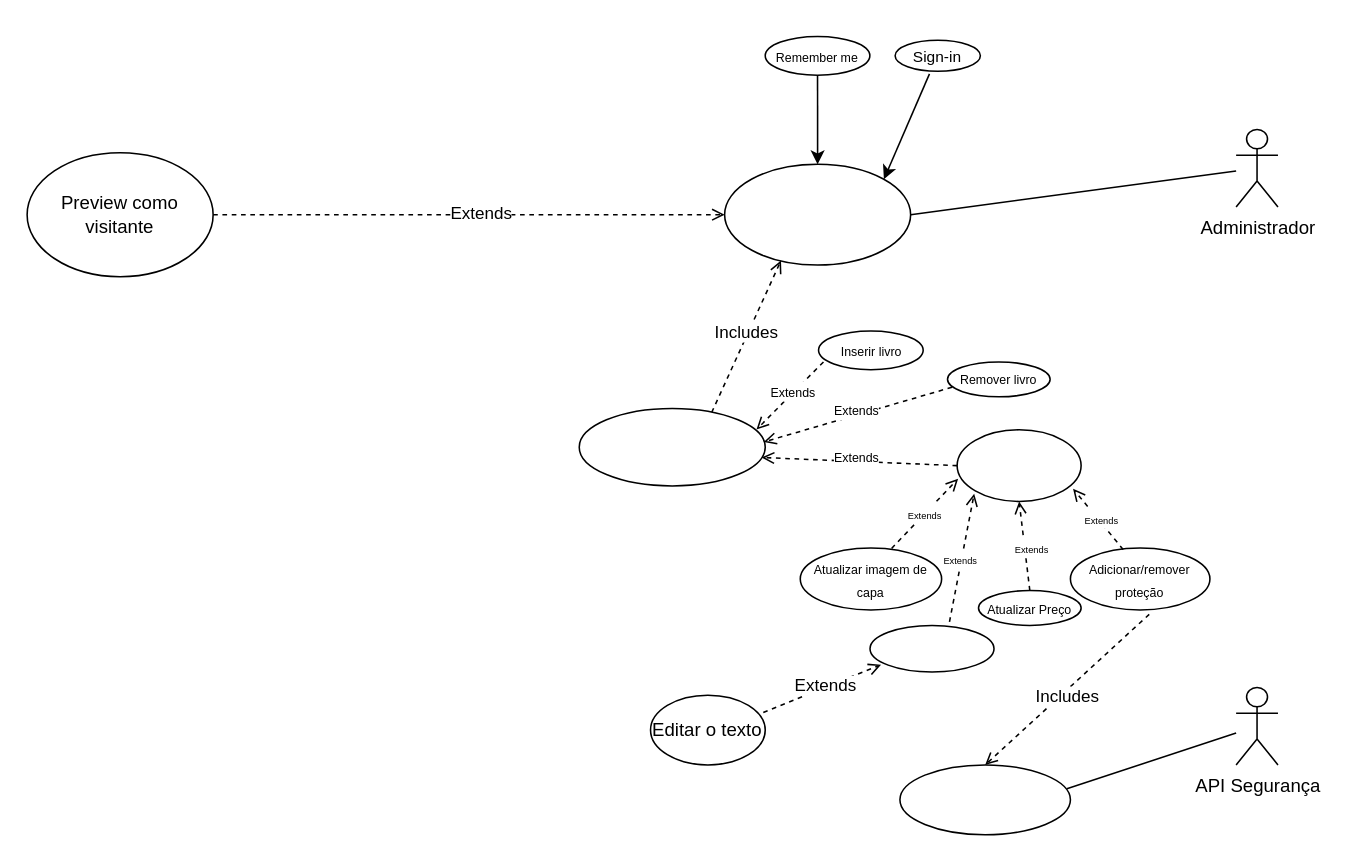
Some shapes in this 1347 by 862 pixel diagram are drawn without their labels. The shapes that lost their labels are listed below. From the top down, each one's centre as x and y in pixels, then its label:
At (x=817, y=214): "Autenticação por email (admin)".
At (x=671, y=446): "Atualização de catálogo".
At (x=1018, y=464): "Atualizar dados de livro".
At (x=931, y=648): "Atualizar descrição".
At (x=984, y=799): "Proteger ebooks contra partilha".
